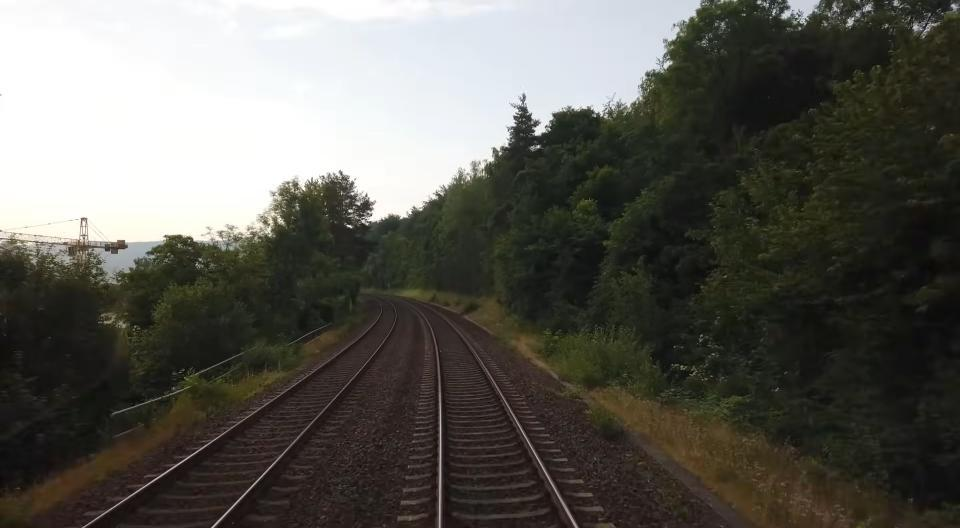Plant: (0, 323, 351, 528), (587, 408, 624, 441), (559, 382, 580, 399)
